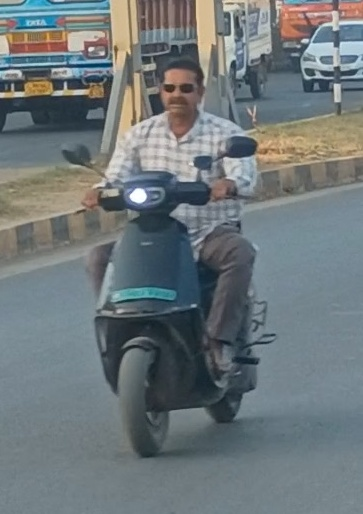BikeWithRider: (58, 47, 288, 462)
NoHelmet: (155, 54, 208, 119)
